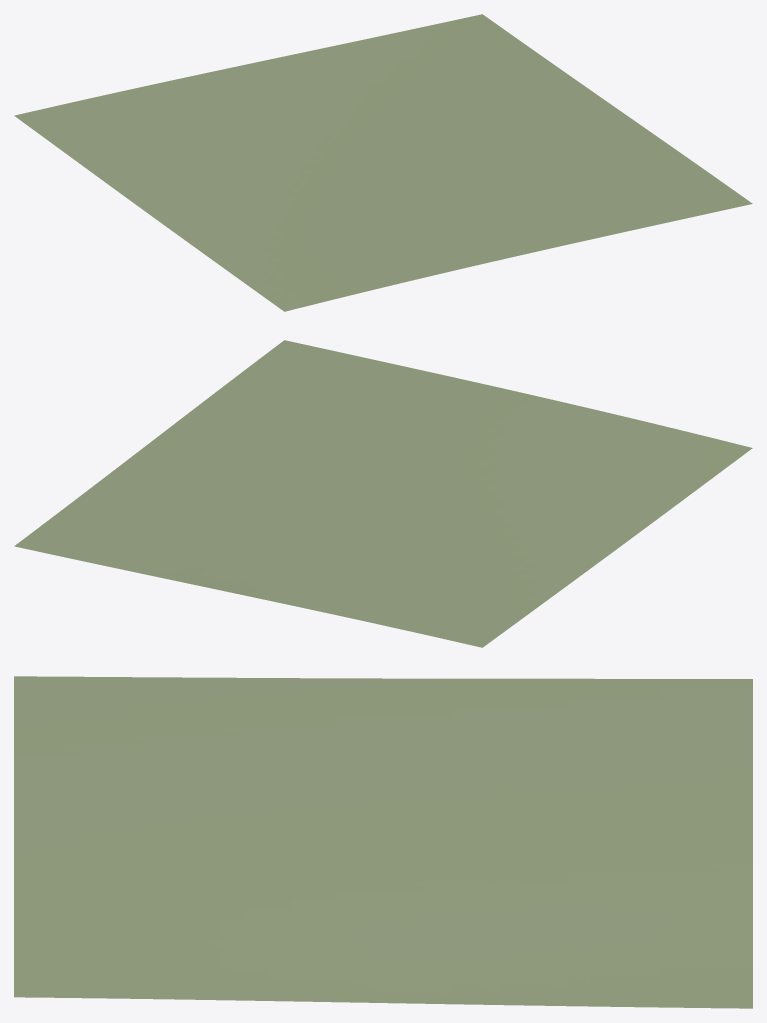
File: expanse-31-2.glb
3 renders of one model, top to bottom at view 1: azimuth 30°, elevation 25°; view 2: azimuth 150°, elevation 25°; view 3: azimuth 270°, elevation 25°, orthographic. The views are drawn at different scales.
Visible parts, largest first — view 1: expanse-31-2; view 2: expanse-31-2; view 3: expanse-31-2.
Part boxes in pixels (box(x1,y1,x2,y2)): expanse-31-2: box(14, 14, 752, 311); expanse-31-2: box(14, 340, 752, 647); expanse-31-2: box(14, 676, 752, 1008).
Bounding box in the file's own units: 256 × 7.77 × 256.
